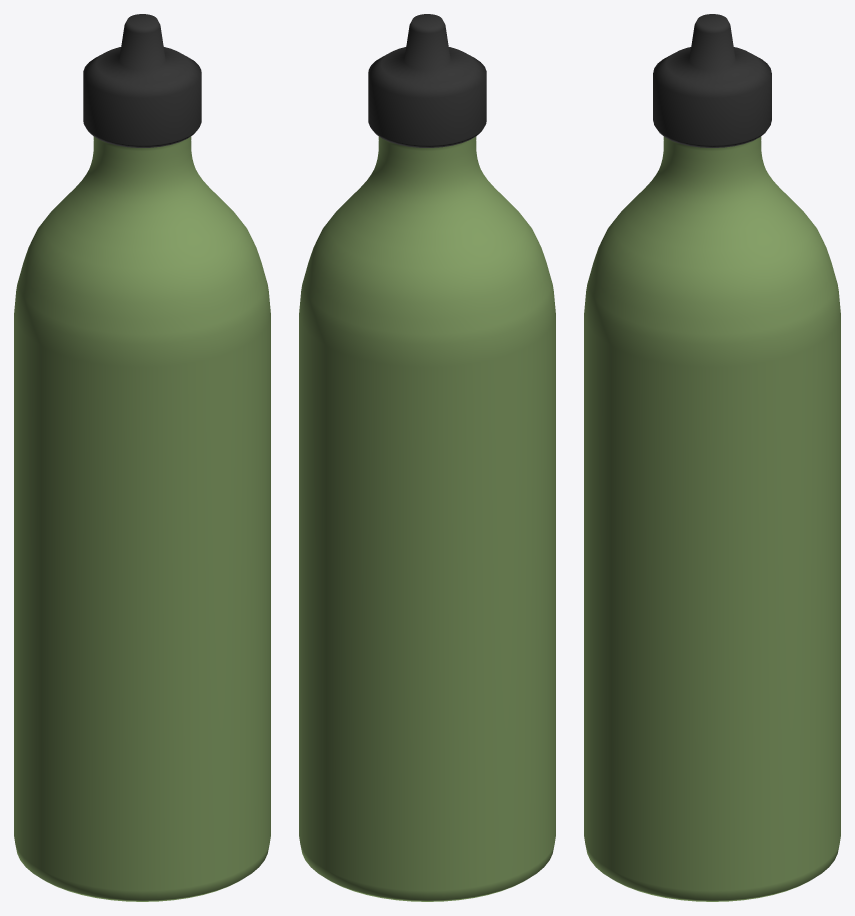
The picture shows the model from 3 angles, left to right: view 1: azimuth 30°, elevation 25°; view 2: azimuth 150°, elevation 25°; view 3: azimuth 270°, elevation 25°; orthographic projection.
Visible parts, largest first — view 1: Olive oil bottle; view 2: Olive oil bottle; view 3: Olive oil bottle.
Boxes of the visible parts, box(x1,y1,x2,y2) form: Olive oil bottle: box(14, 14, 270, 901); Olive oil bottle: box(299, 14, 555, 901); Olive oil bottle: box(584, 14, 840, 901).
Size of the model in its own units: 0.064 by 0.2285 by 0.064.
